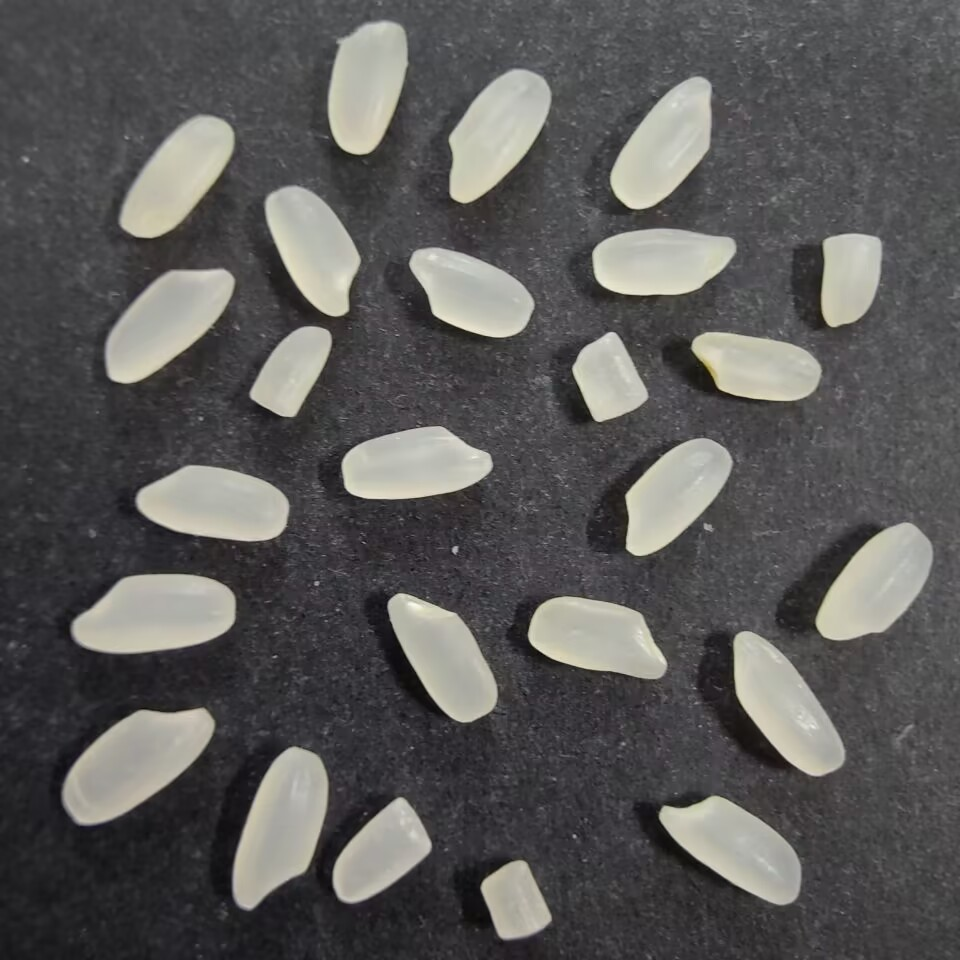broken: (330, 793, 432, 906), (246, 323, 334, 418), (565, 329, 651, 425), (478, 854, 558, 946), (817, 227, 885, 333)
rice: (59, 700, 217, 830), (726, 627, 850, 778), (228, 741, 329, 917), (656, 795, 809, 909), (101, 264, 237, 385), (605, 75, 721, 213), (114, 113, 238, 242), (811, 518, 938, 643), (385, 587, 501, 723), (443, 64, 552, 203), (67, 569, 236, 656), (619, 434, 733, 560), (261, 184, 363, 318), (523, 594, 669, 685), (336, 421, 497, 501), (401, 244, 536, 339), (135, 462, 293, 543), (588, 224, 740, 300), (325, 19, 410, 154), (685, 329, 828, 405)
